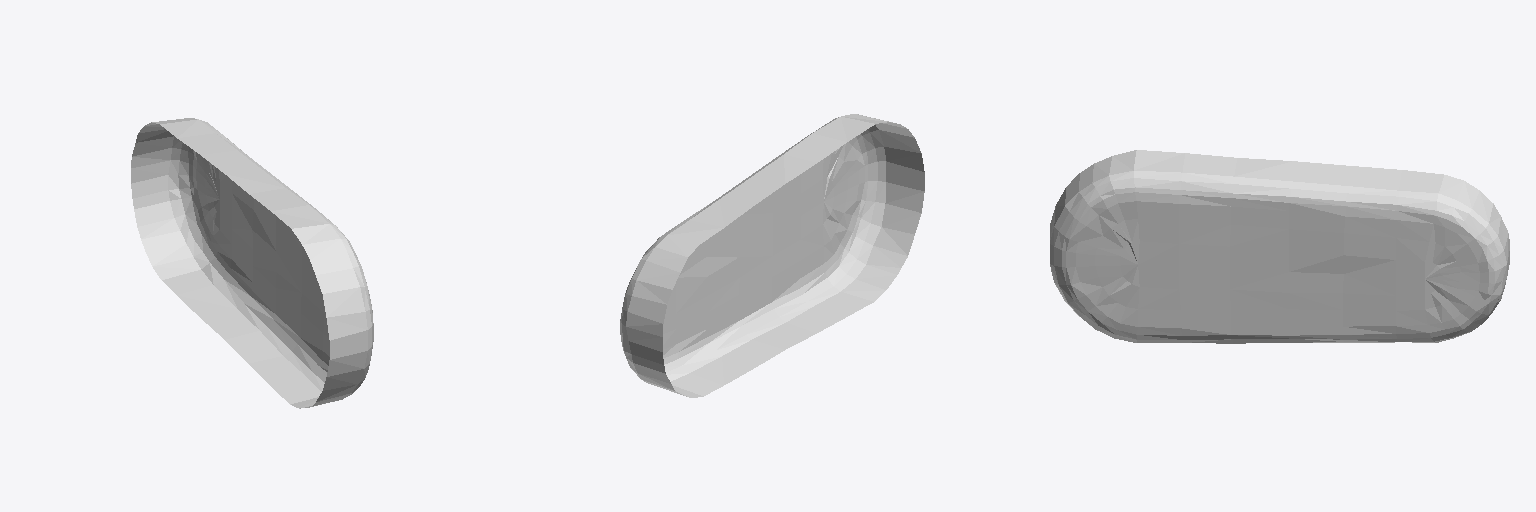
Rendered from left_grip.obj.
3 renders of one model, left to right at view 1: azimuth 30°, elevation 25°; view 2: azimuth 150°, elevation 25°; view 3: azimuth 270°, elevation 25°, orthographic.
Parts seen in each view (by area): view 1: left_grip; view 2: left_grip; view 3: left_grip.
Part boxes in pixels (x1,y1,x2,y2): left_grip: (131, 118, 373, 408); left_grip: (620, 114, 924, 397); left_grip: (1050, 150, 1509, 343).
Bounding box in the file's own units: 0.0063 × 0.0128 × 0.0302.